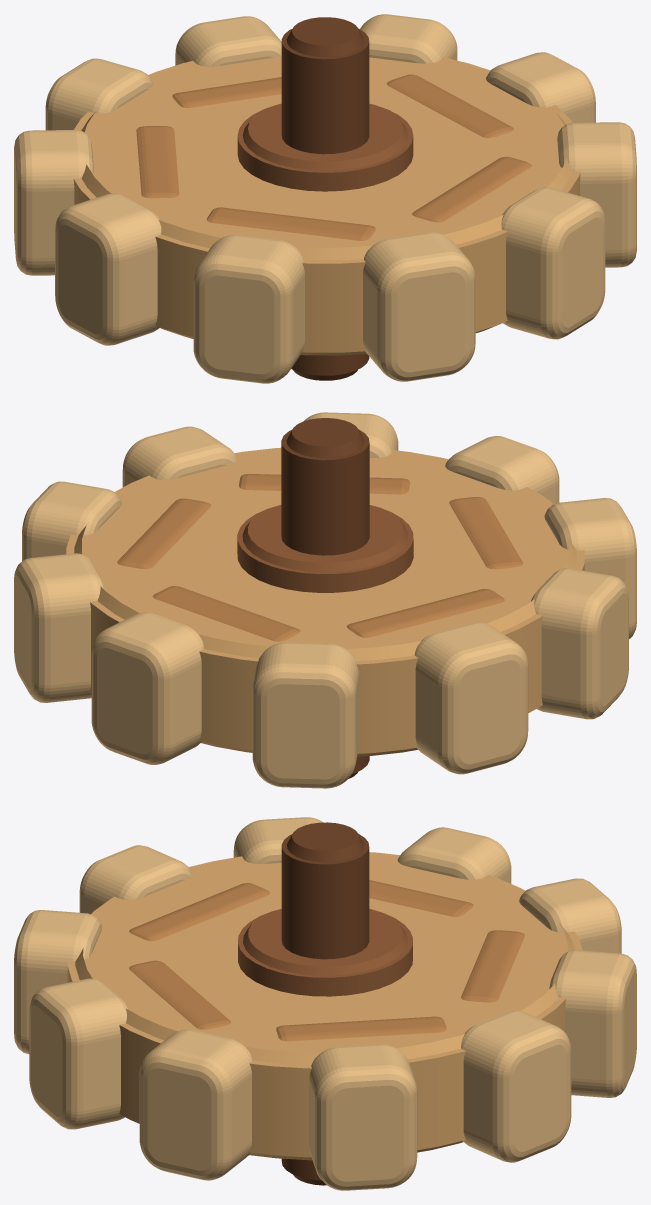
The model's file is wooden-cogwheel-animated.glb.
The picture shows the model from 3 angles, top to bottom: view 1: azimuth 30°, elevation 25°; view 2: azimuth 150°, elevation 25°; view 3: azimuth 270°, elevation 25°; orthographic projection.
Parts seen in each view (by area): view 1: rim, tooth_2, tooth_3, tooth_4, tooth_1, axle, tooth_5, hub, tooth_10, tooth_6, tooth_9, tooth_7 (+9 smaller); view 2: rim, tooth_5, tooth_7, tooth_6, tooth_4, tooth_8, axle, hub, tooth_3, tooth_9, tooth_2, tooth_10 (+9 smaller); view 3: rim, tooth_10, tooth_9, tooth_8, tooth_1, tooth_7, axle, hub, tooth_2, tooth_6, tooth_3, tooth_5 (+9 smaller).
Boxes of the visible parts, x1=… form: rim: x1=73, y1=56, x2=580, y2=352; tooth_2: x1=363, y1=232, x2=475, y2=381; tooth_3: x1=193, y1=235, x2=304, y2=383; tooth_4: x1=55, y1=193, x2=161, y2=345; tooth_1: x1=501, y1=187, x2=605, y2=339; axle: x1=281, y1=28, x2=369, y2=375; tooth_5: x1=14, y1=130, x2=93, y2=275; hub: x1=237, y1=103, x2=413, y2=191; tooth_10: x1=557, y1=122, x2=636, y2=267; tooth_6: x1=45, y1=58, x2=153, y2=130; tooth_9: x1=486, y1=52, x2=595, y2=122; tooth_7: x1=175, y1=16, x2=281, y2=66; rim: x1=66, y1=447, x2=584, y2=753; tooth_5: x1=414, y1=622, x2=528, y2=774; tooth_7: x1=91, y1=612, x2=203, y2=764; tooth_6: x1=252, y1=642, x2=359, y2=788; tooth_4: x1=531, y1=568, x2=628, y2=719; tooth_8: x1=14, y1=553, x2=105, y2=702; axle: x1=281, y1=429, x2=369, y2=773; hub: x1=237, y1=505, x2=413, y2=592; tooth_3: x1=544, y1=498, x2=636, y2=638; tooth_9: x1=22, y1=481, x2=121, y2=560; tooth_2: x1=445, y1=436, x2=559, y2=503; tooth_10: x1=122, y1=426, x2=237, y2=487; rim: x1=67, y1=852, x2=582, y2=1157; tooth_10: x1=139, y1=1029, x2=252, y2=1180; tooth_9: x1=309, y1=1044, x2=417, y2=1190; tooth_8: x1=461, y1=1010, x2=571, y2=1162; tooth_1: x1=29, y1=978, x2=128, y2=1129; tooth_7: x1=549, y1=950, x2=636, y2=1097; axle: x1=281, y1=834, x2=369, y2=1180; hub: x1=238, y1=908, x2=412, y2=996; tooth_2: x1=14, y1=910, x2=101, y2=1054; tooth_6: x1=519, y1=878, x2=621, y2=953; tooth_3: x1=79, y1=845, x2=192, y2=914; tooth_5: x1=397, y1=827, x2=511, y2=883.
Size of the model in its own units: 2.42 by 1.43 by 2.41.
